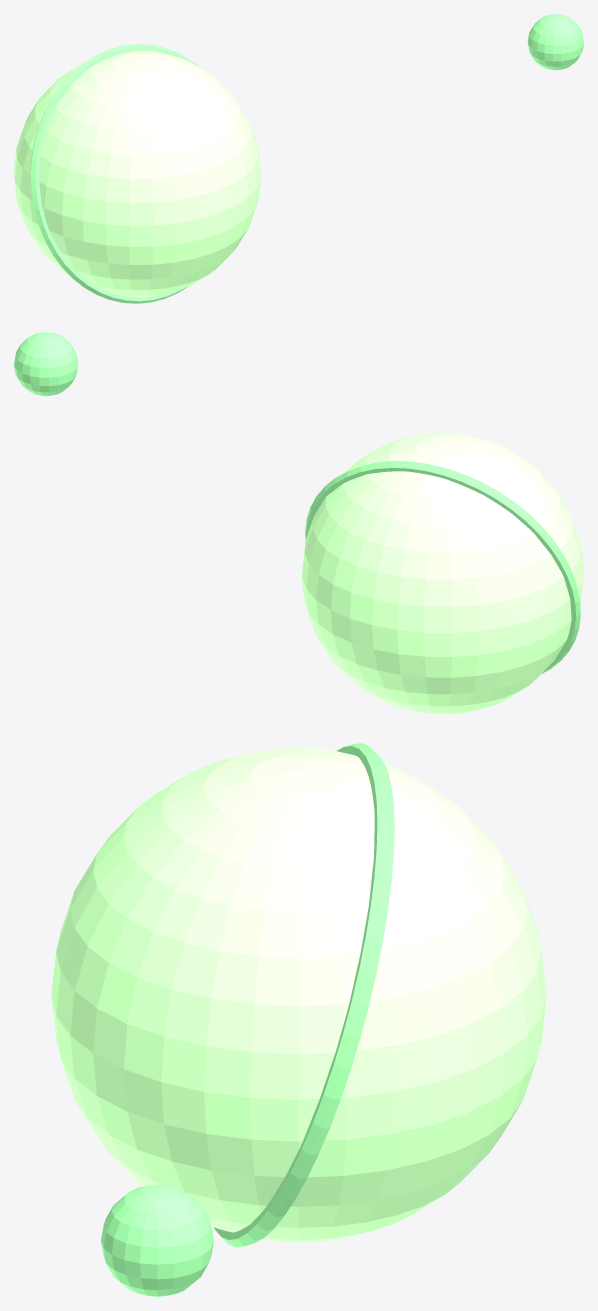
Rendered from SkyPlanet.fbx.
The picture shows the model from 3 angles, top to bottom: view 1: azimuth 30°, elevation 25°; view 2: azimuth 150°, elevation 25°; view 3: azimuth 270°, elevation 25°; orthographic projection. The views are drawn at different scales.
Visible parts, largest first — view 1: SkyPlanet.001; view 2: SkyPlanet.001; view 3: SkyPlanet.001.
Boxes of the visible parts, bbox=[...] form: SkyPlanet.001: bbox=[14, 14, 583, 303]; SkyPlanet.001: bbox=[14, 332, 583, 714]; SkyPlanet.001: bbox=[51, 743, 546, 1296].
Bounding box in the file's own units: 33885 × 14000 × 14000.
